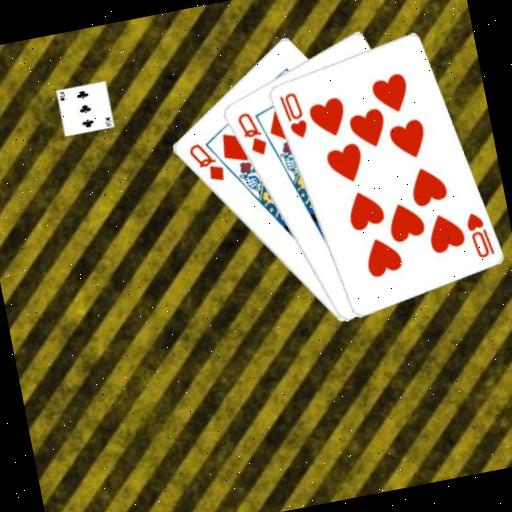10H: (275, 88, 311, 143), (461, 206, 497, 261)
QD: (183, 136, 227, 188), (232, 106, 270, 161)
